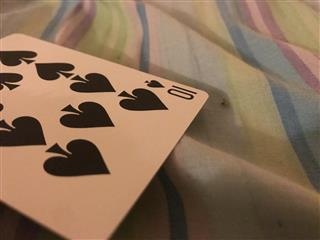TenOfSpades: (1, 31, 209, 240)
